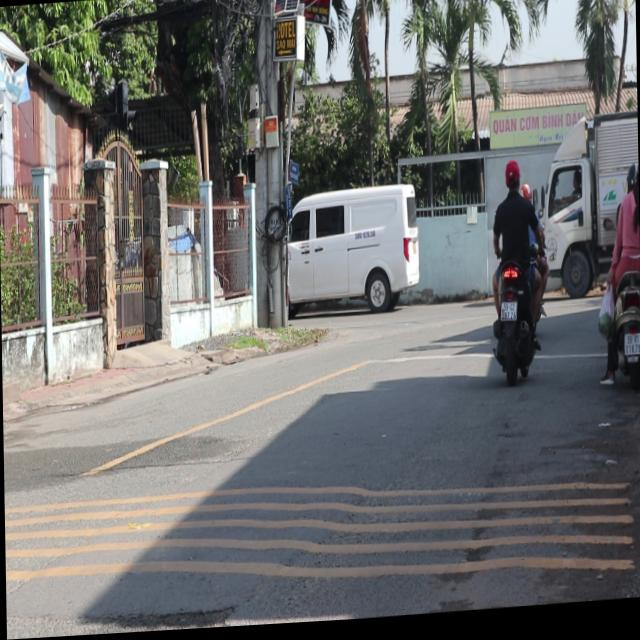helmet: (624, 168, 638, 199)
licenseplate: (482, 159, 548, 387), (592, 164, 640, 397)
motorcyclist: (502, 164, 520, 199)
nohelmet: (622, 339, 640, 360), (500, 305, 514, 324)
